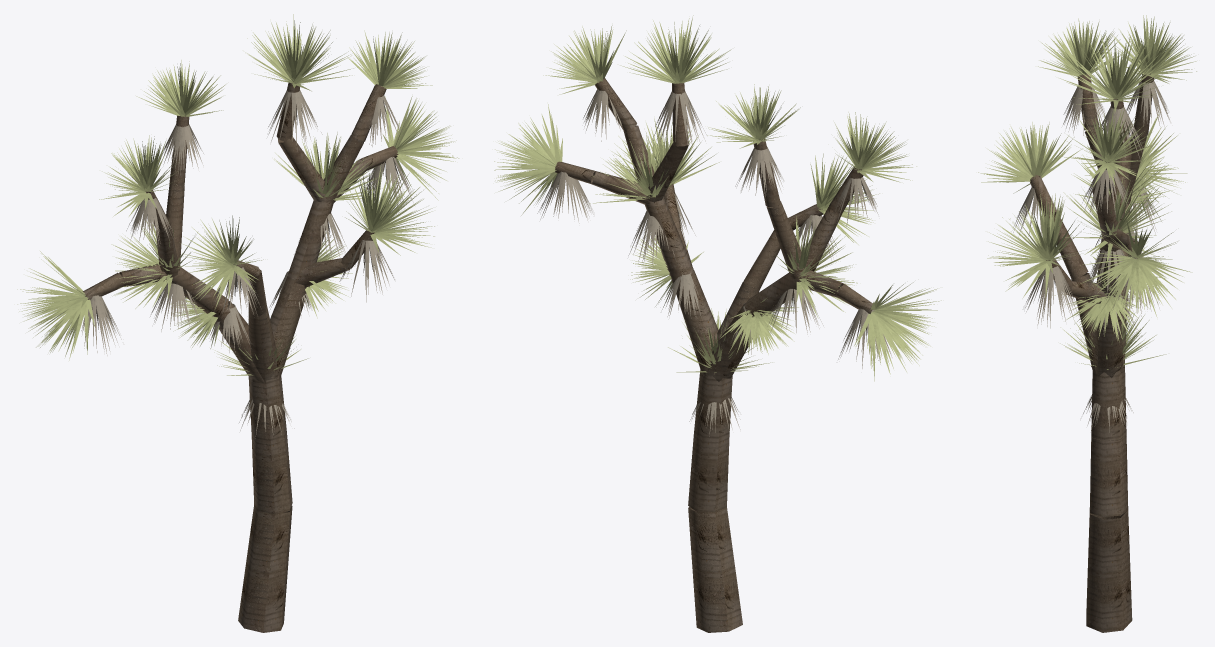
Rendered from BC2_JOSHUA01.glb.
3 views of the same model, side by side, from view 1: azimuth 30°, elevation 25°; view 2: azimuth 150°, elevation 25°; view 3: azimuth 270°, elevation 25° (orthographic). The views are drawn at different scales.
Parts seen in each view (by area): view 1: BC2_JOSHUA01_leaf, BC2_JOSHUA01_bark, BC2_JOSHUA01_deadleaf; view 2: BC2_JOSHUA01_bark, BC2_JOSHUA01_leaf, BC2_JOSHUA01_deadleaf; view 3: BC2_JOSHUA01_leaf, BC2_JOSHUA01_bark, BC2_JOSHUA01_deadleaf.
Boxes of the visible parts, x1,y1,x2,y2 form: BC2_JOSHUA01_leaf: (17, 14, 459, 375); BC2_JOSHUA01_bark: (82, 81, 398, 632); BC2_JOSHUA01_deadleaf: (65, 89, 413, 438); BC2_JOSHUA01_bark: (555, 78, 872, 632); BC2_JOSHUA01_leaf: (494, 15, 941, 381); BC2_JOSHUA01_deadleaf: (537, 89, 892, 436); BC2_JOSHUA01_leaf: (978, 15, 1196, 369); BC2_JOSHUA01_bark: (1030, 73, 1154, 632); BC2_JOSHUA01_deadleaf: (1013, 81, 1170, 432).
Bounding box in the file's own units: 6.35 × 8.28 × 2.8.
Materials: 3 (3 with a texture image).
